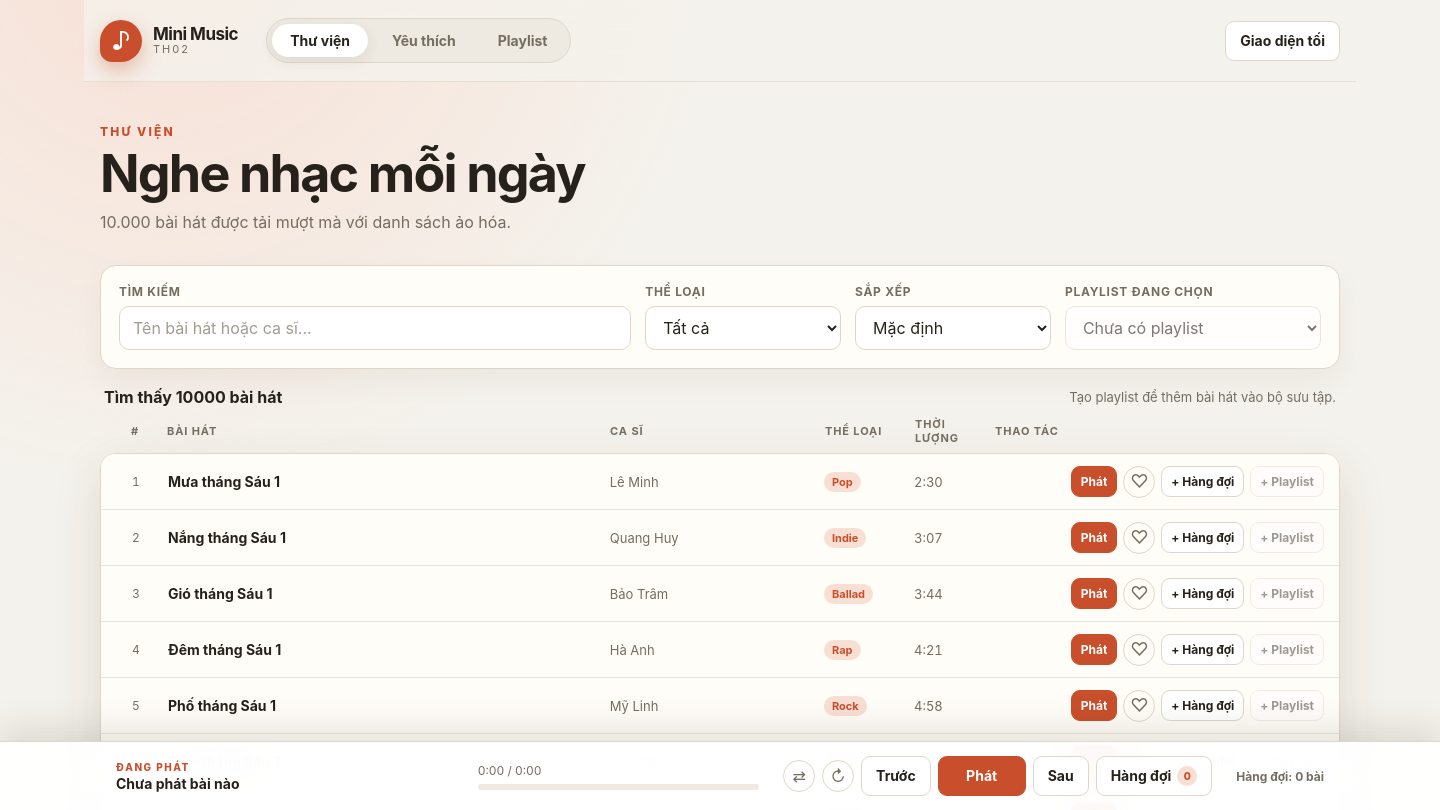
it: App › điều hướng tới trang yêu thích được tải lazy
Click the link "Yêu thích" at (424, 40), box [392,32,456,49]
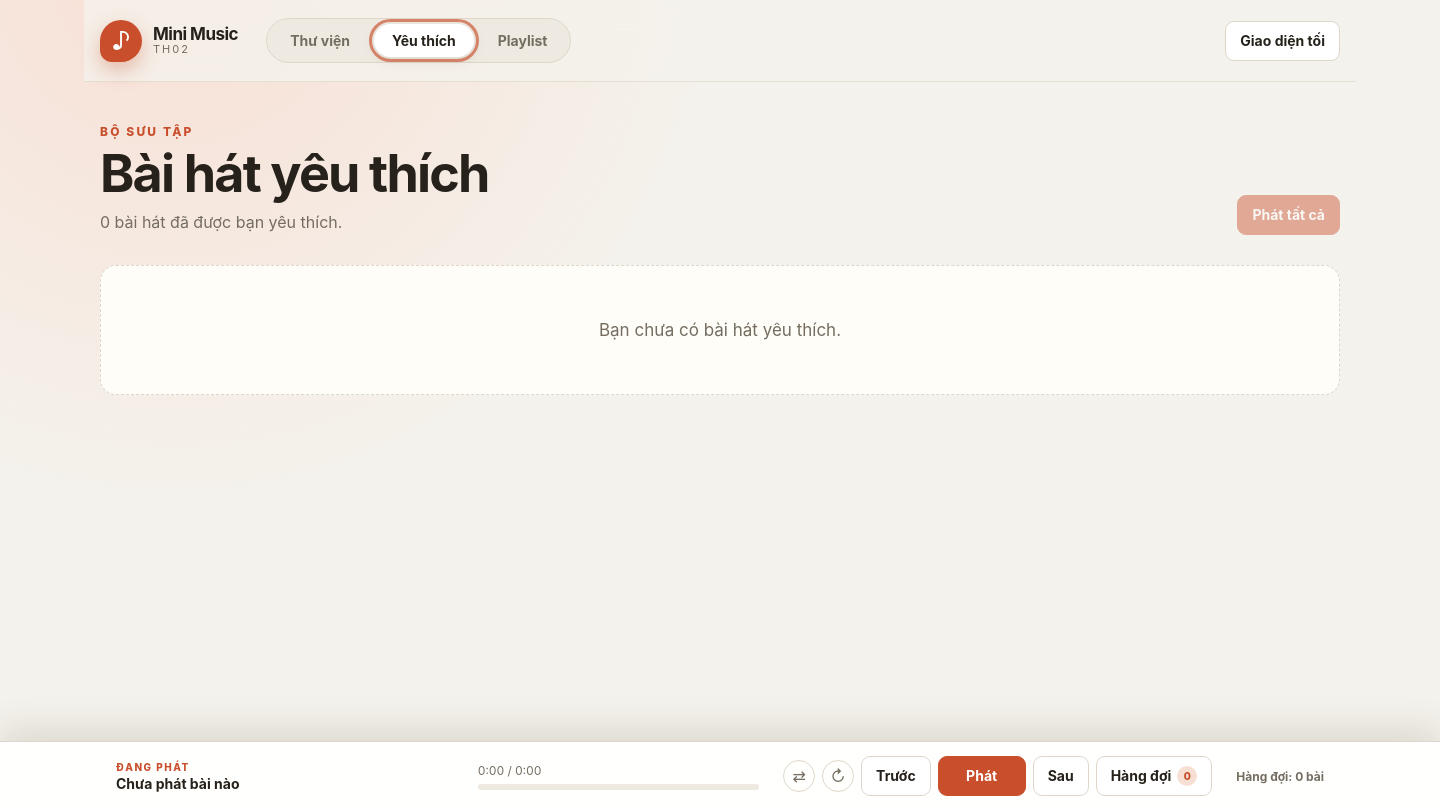
Expected: the text "Bạn chưa có bài hát yêu thích." is shown, [100,265,1340,395]
